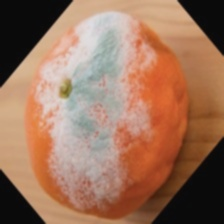orange: (0, 20, 189, 192)
